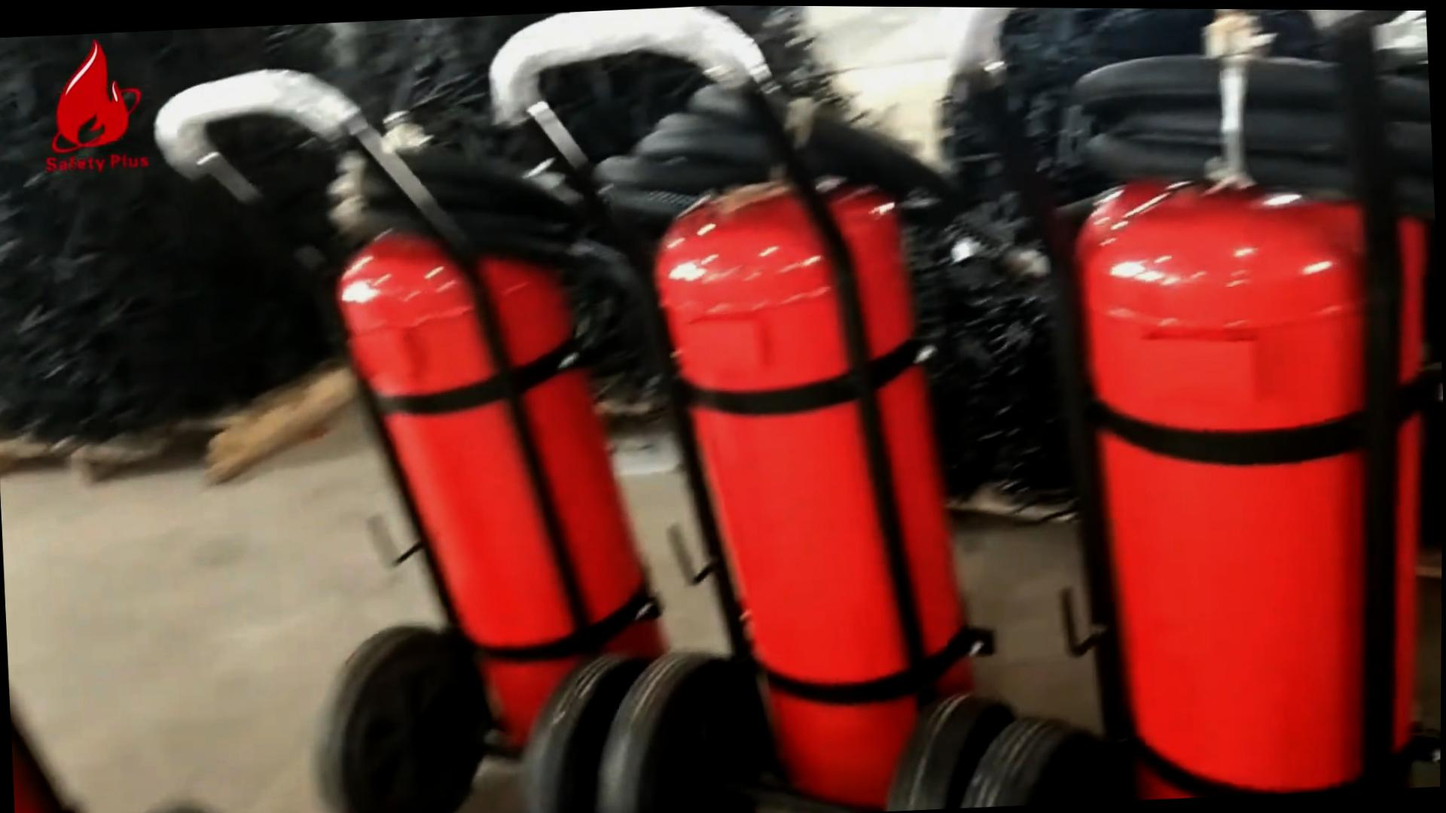FireExtinguisher: (1030, 142, 1445, 803), (631, 146, 1017, 813), (283, 192, 681, 766)
